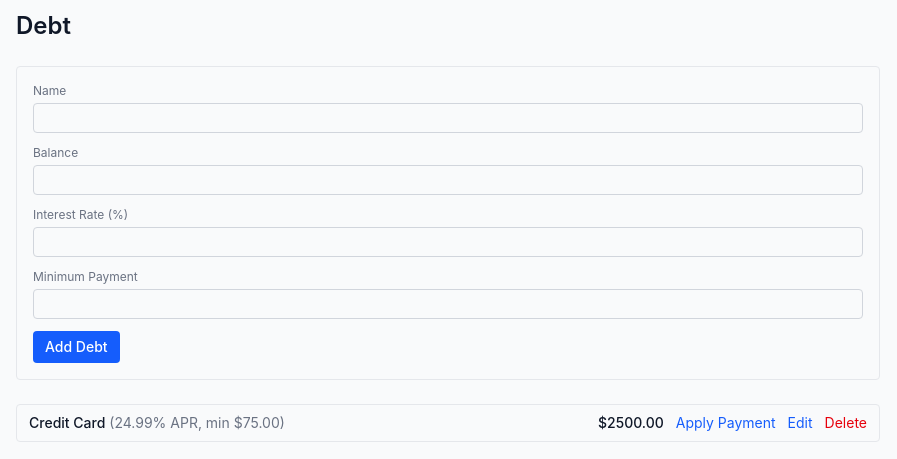
Test: DebtPage › applies a payment via the prompt action and refetches the list
Check: the text "Credit Card" is shown, box [29,414,105,431]
Click the button "Apply Payment": coordinates (726, 423) [676,413,776,433]
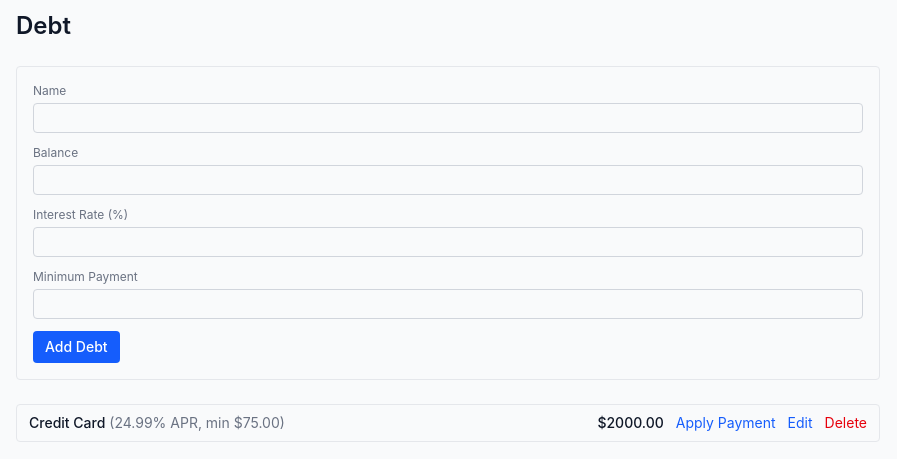
Check: the text "$2000.00" is shown, box [597,413,664,433]
